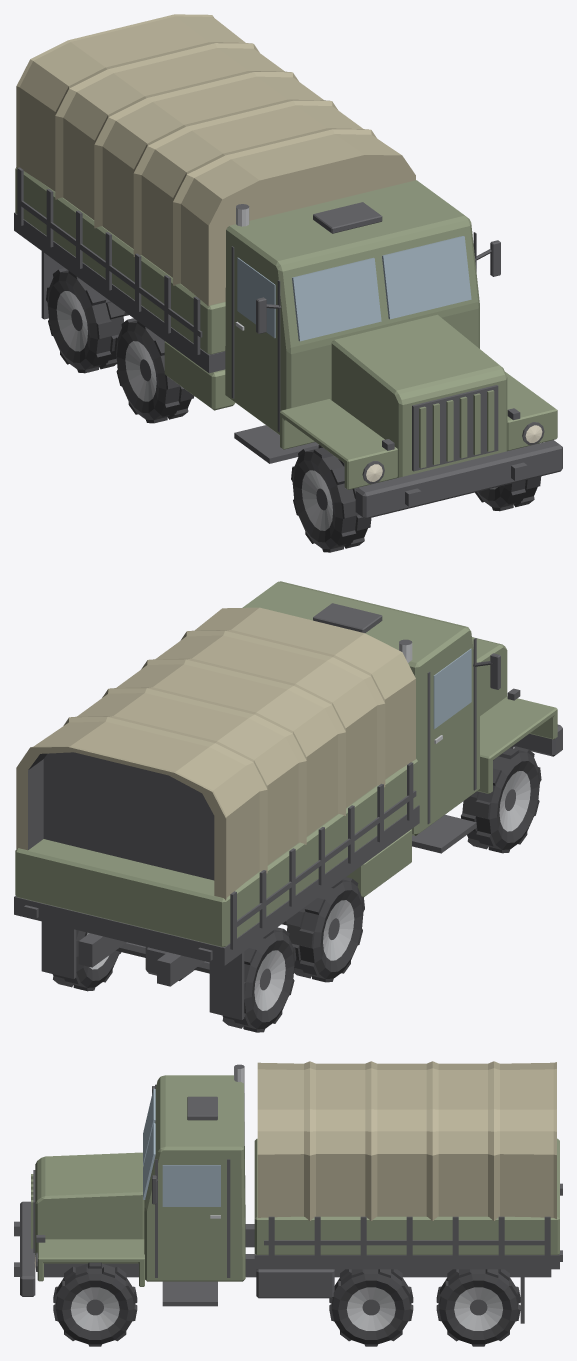
Rendered from Truck.fbx.
The picture shows the model from 3 angles, top to bottom: view 1: azimuth 30°, elevation 25°; view 2: azimuth 150°, elevation 25°; view 3: azimuth 270°, elevation 25°; orthographic projection. The views are drawn at different scales.
Visible parts, largest first — view 1: Body, Wheel_5, Wheel_1, Wheel_3, Wheel_0; view 2: Body, Wheel_3, Wheel_1, Wheel_5, Wheel_4; view 3: Body, Wheel_0, Wheel_4, Wheel_2.
Part boxes in pixels (bbox=[...]): Body: bbox=[14, 14, 562, 519]; Wheel_5: bbox=[46, 268, 124, 373]; Wheel_1: bbox=[291, 445, 371, 552]; Wheel_3: bbox=[114, 318, 194, 423]; Wheel_0: bbox=[475, 476, 541, 511]; Body: bbox=[14, 581, 562, 1019]; Wheel_3: bbox=[286, 877, 364, 982]; Wheel_1: bbox=[461, 745, 541, 853]; Wheel_5: bbox=[222, 927, 296, 1032]; Wheel_4: bbox=[52, 930, 121, 991]; Body: bbox=[14, 1061, 562, 1323]; Wheel_0: bbox=[53, 1262, 137, 1346]; Wheel_4: bbox=[436, 1269, 520, 1346]; Wheel_2: bbox=[329, 1269, 413, 1346].
Bounding box in the file's own units: 2.86 × 3.17 × 7.16.
